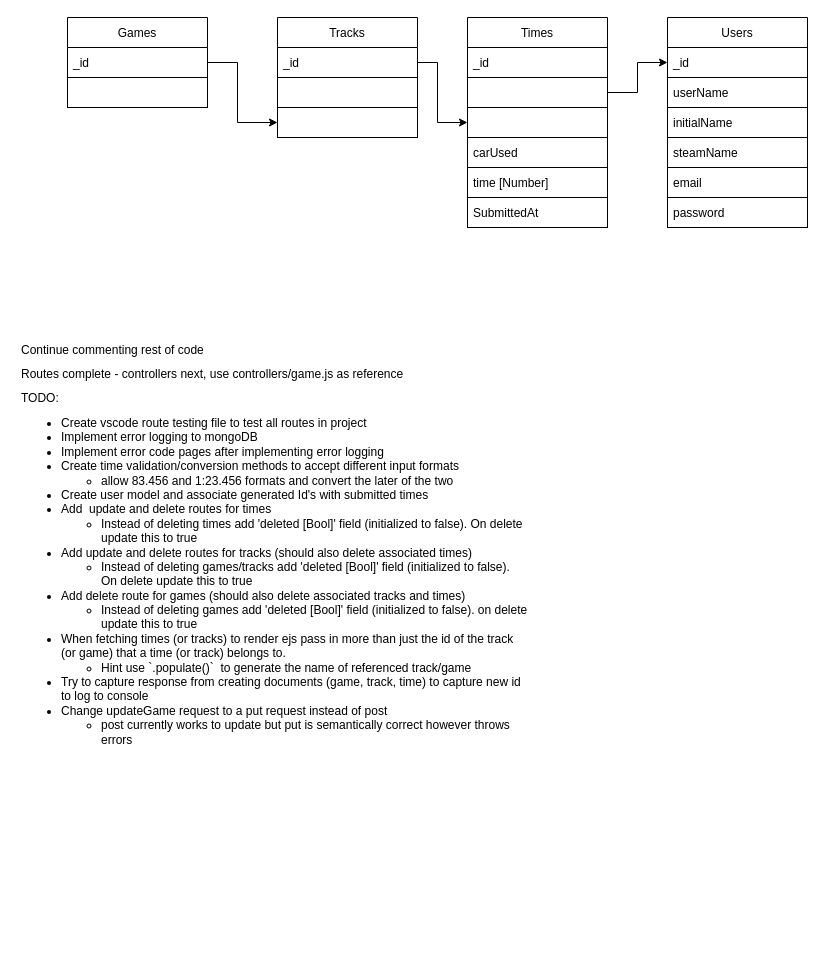
Some shapes in this 825 by 975 pixel diagram are drawn without their labels. The shapes that lost their labels are listed below. From the top down, each one's centre as x and y in pixels, then its label:
At (137,92): "name [String]".
At (347,92): "name".
At (537,92): "userId".
At (347,122): "gameId".
At (537,122): "trackId".
